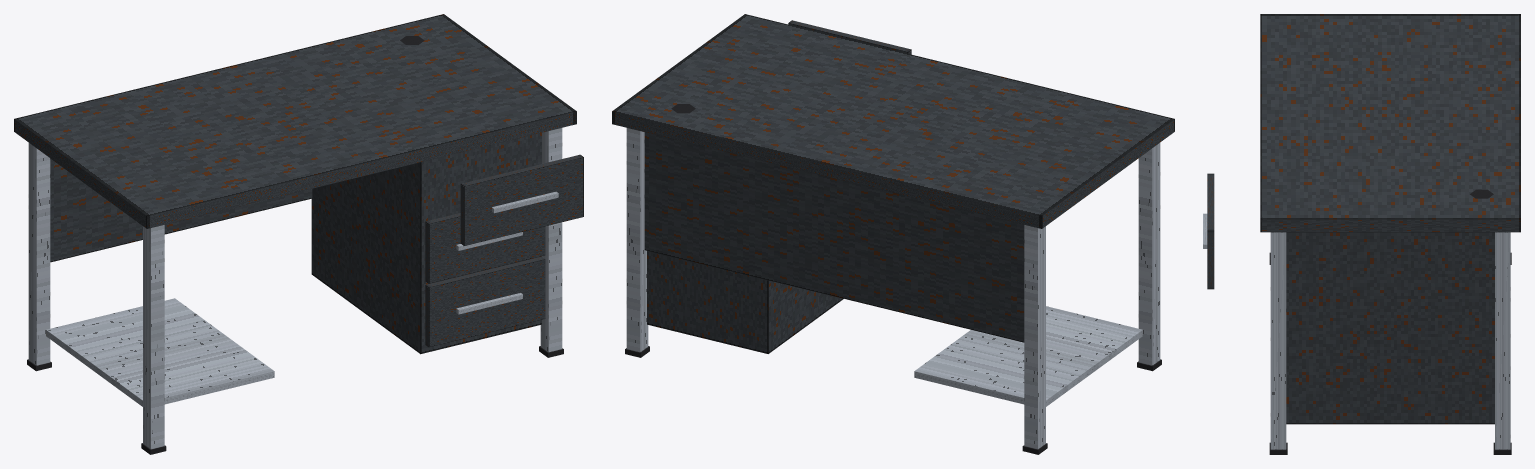
File: office_desk_industrial_hazard.glb
3 views of the same model, side by side, from view 1: azimuth 30°, elevation 25°; view 2: azimuth 150°, elevation 25°; view 3: azimuth 270°, elevation 25° (orthographic). The views are drawn at different scales.
Visible parts, largest first — view 1: office_desk_industrial_hazard; view 2: office_desk_industrial_hazard; view 3: office_desk_industrial_hazard.
Boxes of the visible parts, bbox=[...] form: office_desk_industrial_hazard: bbox=[14, 14, 583, 454]; office_desk_industrial_hazard: bbox=[612, 14, 1174, 454]; office_desk_industrial_hazard: bbox=[1203, 14, 1520, 454].
Bounding box in the file's own units: 1.4 × 0.762 × 0.915.
4 materials, 4 textured.
